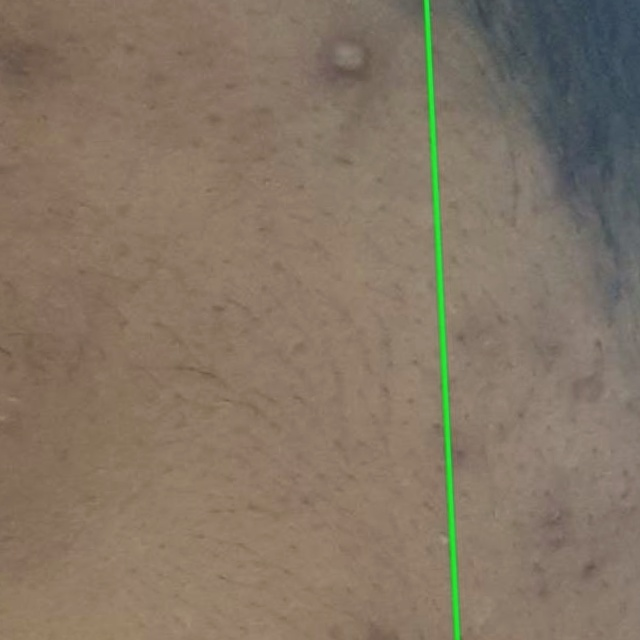Seborrheic Dermatitis: (426, 0, 639, 639)
